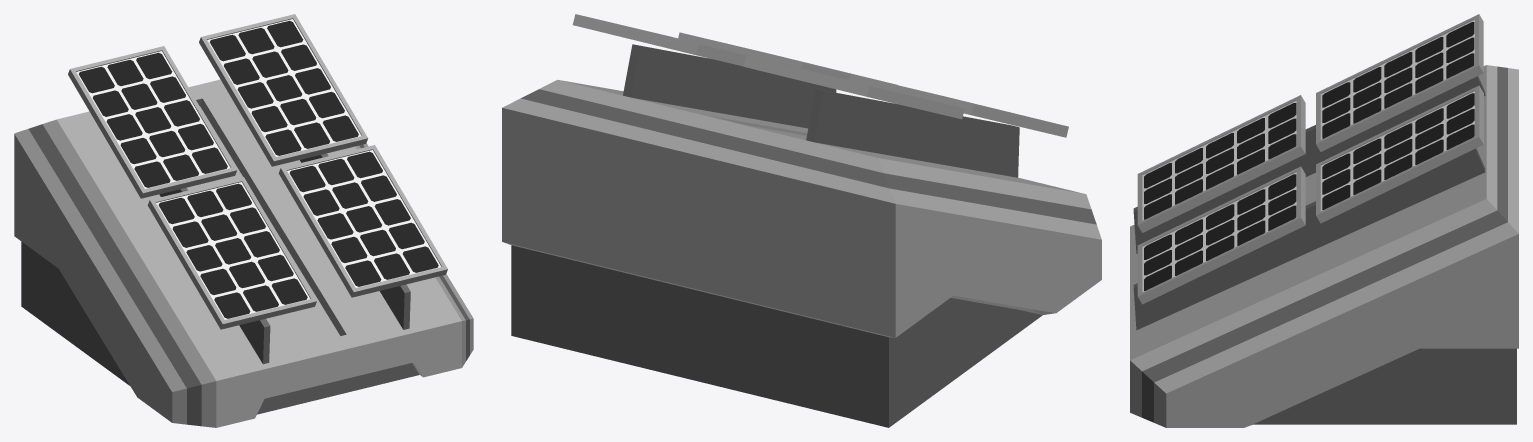
The model's file is SolarPanel_Structure_Cube.obj.
3 renders of one model, left to right at view 1: azimuth 30°, elevation 25°; view 2: azimuth 150°, elevation 25°; view 3: azimuth 270°, elevation 25°, orthographic. The views are drawn at different scales.
Parts seen in each view (by area): view 1: SolarPanel_Structure_Cube.011; view 2: SolarPanel_Structure_Cube.011; view 3: SolarPanel_Structure_Cube.011.
Part boxes in pixels (x1,y1,x2,y2): SolarPanel_Structure_Cube.011: (14,14,473,427); SolarPanel_Structure_Cube.011: (502,14,1101,427); SolarPanel_Structure_Cube.011: (1130,14,1518,427).
Size of the model in its own units: 4 by 3.07 by 4.
